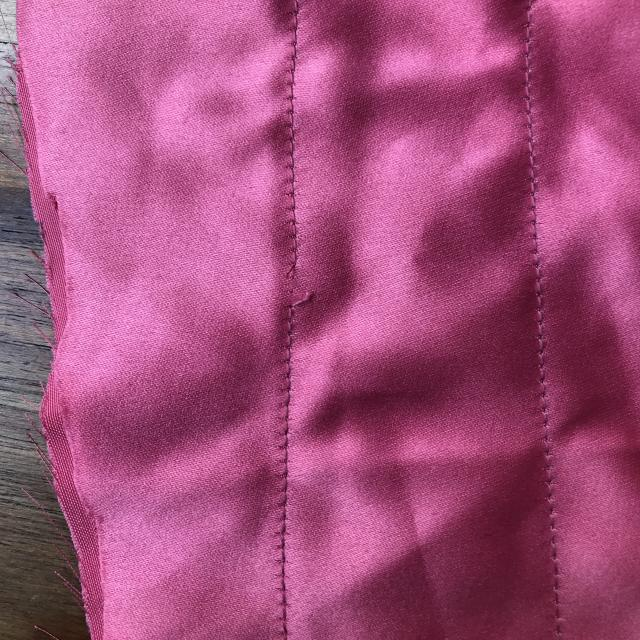broken: (260, 246, 324, 319)
